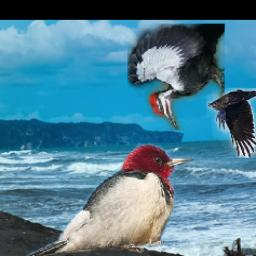Crow: (206, 88, 256, 158)
Woodpecker: (27, 144, 194, 256), (127, 25, 225, 131)
